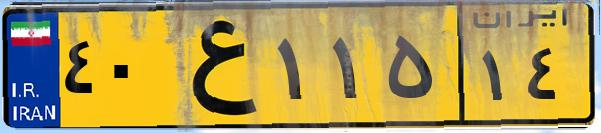0: (110, 28, 158, 98)
1: (270, 28, 330, 110), (330, 28, 385, 110), (475, 38, 525, 113)
4: (57, 26, 110, 100), (525, 38, 570, 115)
5: (385, 28, 445, 110)
ع: (158, 12, 270, 120)
